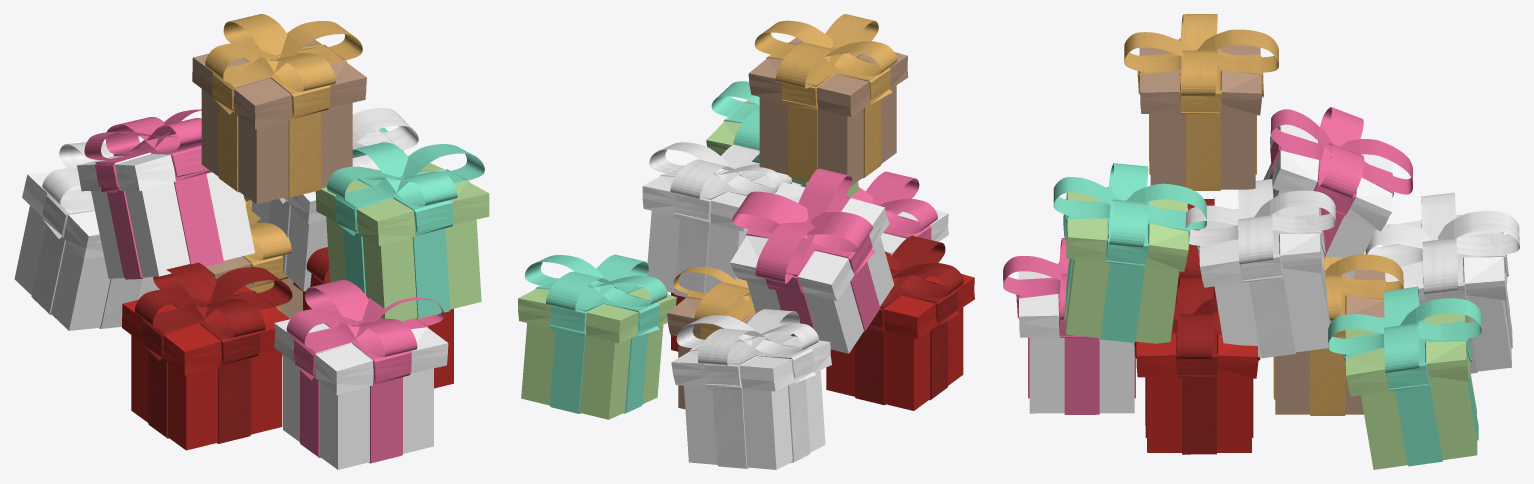
The model's file is regalo.obj.
The picture shows the model from 3 angles, left to right: view 1: azimuth 30°, elevation 25°; view 2: azimuth 150°, elevation 25°; view 3: azimuth 270°, elevation 25°; orthographic projection. The views are drawn at different scales.
Parts seen in each view (by area): view 1: Christmas_Gift, Christmas_Gift.003, Christmas_Gift.005, Christmas_Gift.008, Christmas_Gift.002, Christmas_Gift.001, Christmas_Gift.006, Christmas_Gift.009, Christmas_Gift.007; view 2: Christmas_Gift, Christmas_Gift.001, Christmas_Gift.004, Christmas_Gift.002, Christmas_Gift.003, Christmas_Gift.006, Christmas_Gift.005, Christmas_Gift.009, Christmas_Gift.008; view 3: Christmas_Gift.004, Christmas_Gift.008, Christmas_Gift, Christmas_Gift.006, Christmas_Gift.007, Christmas_Gift.001, Christmas_Gift.002, Christmas_Gift.005, Christmas_Gift.009, Christmas_Gift.003.
Boxes of the visible parts, x1=… form: Christmas_Gift: x1=192, y1=14, x2=366, y2=204; Christmas_Gift.003: x1=122, y1=262, x2=292, y2=450; Christmas_Gift.005: x1=274, y1=279, x2=448, y2=469; Christmas_Gift.008: x1=315, y1=142, x2=489, y2=321; Christmas_Gift.002: x1=77, y1=109, x2=254, y2=279; Christmas_Gift.001: x1=14, y1=142, x2=159, y2=330; Christmas_Gift.006: x1=251, y1=108, x2=418, y2=291; Christmas_Gift.009: x1=206, y1=199, x2=302, y2=356; Christmas_Gift.007: x1=293, y1=247, x2=453, y2=388; Christmas_Gift: x1=748, y1=14, x2=908, y2=186; Christmas_Gift.001: x1=671, y1=309, x2=831, y2=469; Christmas_Gift.004: x1=518, y1=254, x2=676, y2=419; Christmas_Gift.002: x1=730, y1=168, x2=894, y2=353; Christmas_Gift.003: x1=826, y1=235, x2=974, y2=410; Christmas_Gift.006: x1=642, y1=142, x2=801, y2=296; Christmas_Gift.005: x1=850, y1=171, x2=948, y2=255; Christmas_Gift.009: x1=667, y1=267, x2=755, y2=409; Christmas_Gift.008: x1=706, y1=81, x2=858, y2=196; Christmas_Gift.004: x1=1328, y1=286, x2=1481, y2=469; Christmas_Gift.008: x1=1053, y1=163, x2=1206, y2=343; Christmas_Gift: x1=1124, y1=14, x2=1278, y2=190; Christmas_Gift.006: x1=1185, y1=179, x2=1335, y2=358; Christmas_Gift.007: x1=1134, y1=277, x2=1260, y2=454; Christmas_Gift.001: x1=1365, y1=192, x2=1519, y2=373; Christmas_Gift.002: x1=1263, y1=107, x2=1412, y2=278; Christmas_Gift.005: x1=1003, y1=238, x2=1135, y2=414; Christmas_Gift.009: x1=1273, y1=254, x2=1403, y2=415; Christmas_Gift.003: x1=1175, y1=199, x2=1215, y2=302.
Size of the model in its own units: 56.89 by 55.29 by 73.96.
